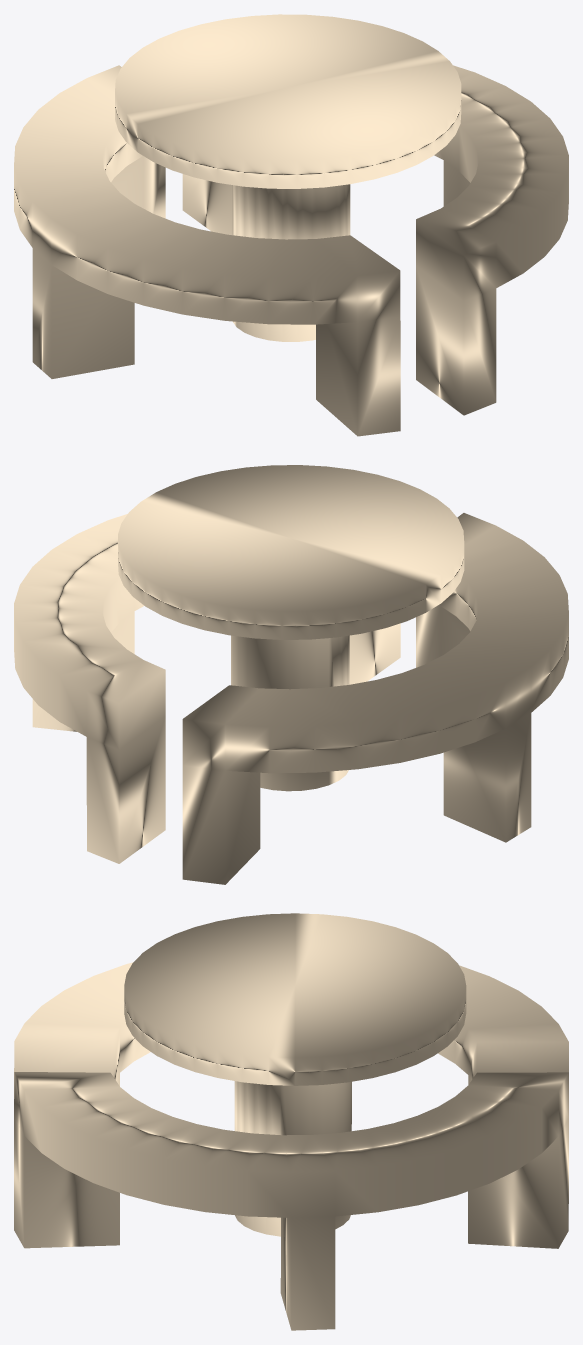
Rendered from mesa_redonda.obj.
3 renders of one model, top to bottom at view 1: azimuth 30°, elevation 25°; view 2: azimuth 150°, elevation 25°; view 3: azimuth 270°, elevation 25°, orthographic.
Parts seen in each view (by area): view 1: Circle_Circle; view 2: Circle_Circle; view 3: Circle_Circle.
Boxes of the visible parts, x1,y1,x2,y2 form: Circle_Circle: (14, 14, 568, 436); Circle_Circle: (14, 465, 568, 884); Circle_Circle: (14, 913, 568, 1330).
Size of the model in its own units: 28.91 by 13.41 by 29.39.
